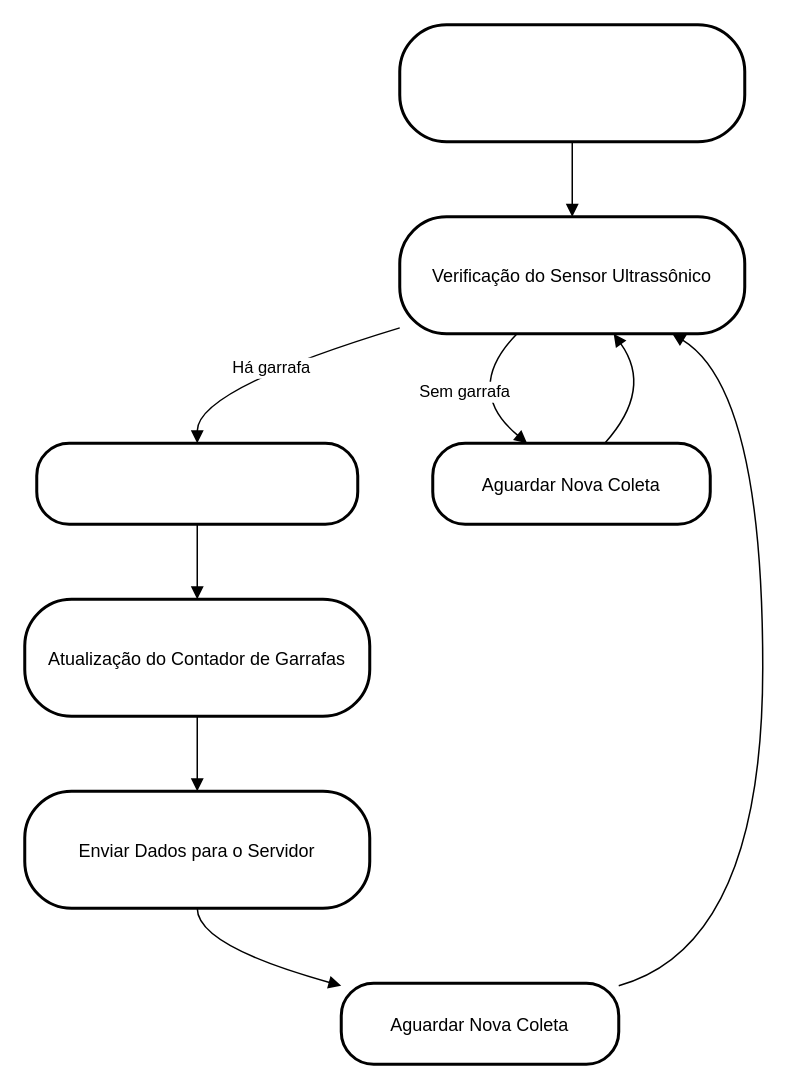
This 788x1089 diagram has some shape labels left out. Each missing label, with the centre of its shape:
Inicialização do Microcontrolador: (x=572, y=82)
Leitura do Sensor de Peso: (x=196, y=483)
